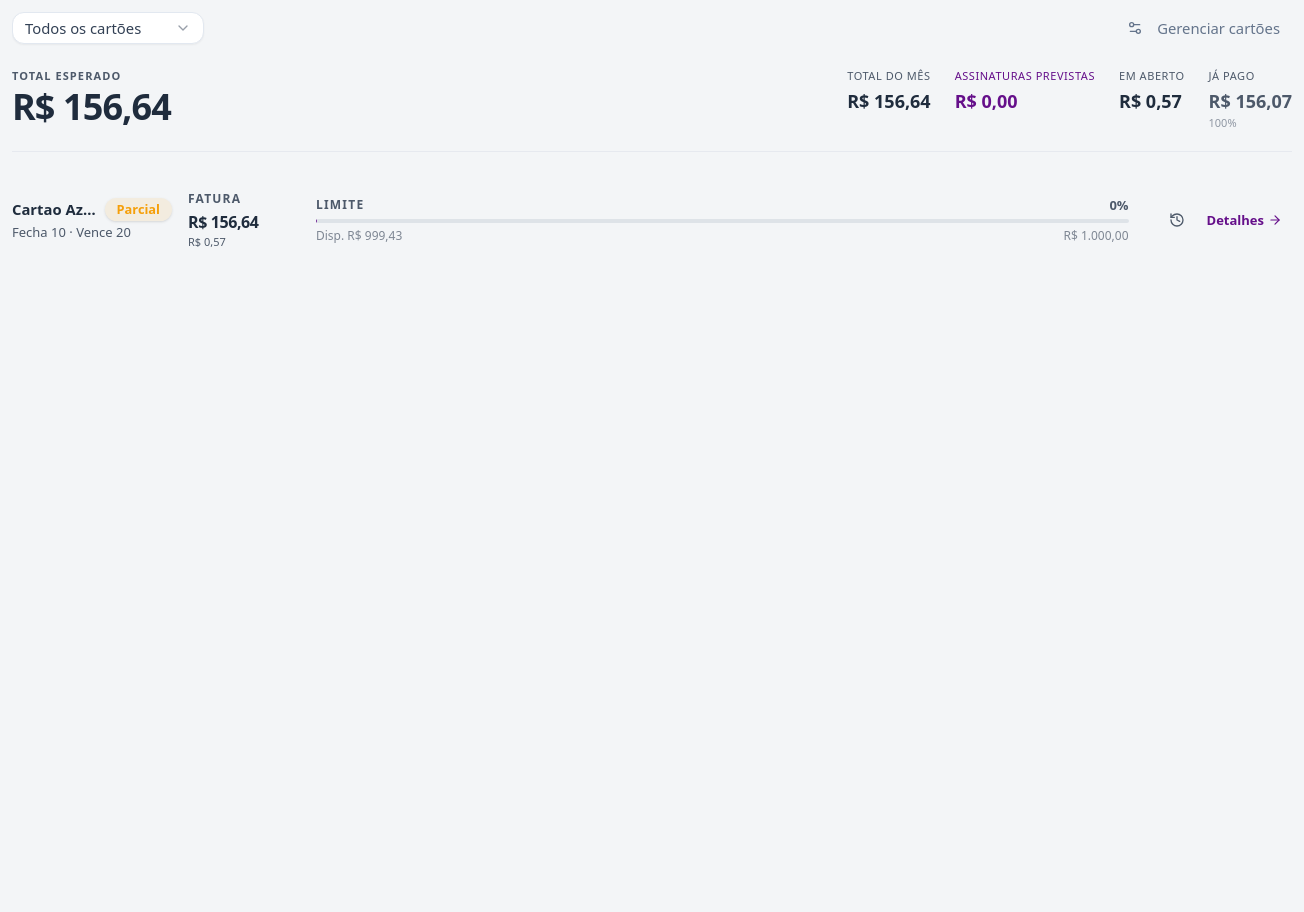
Scenario: CardsView › does not render 100% progress while a partial invoice still has cents open
The width and height of the screenshot is (1304, 912).
Click the button "Detalhes": (1244, 220) [1196,204,1292,236]
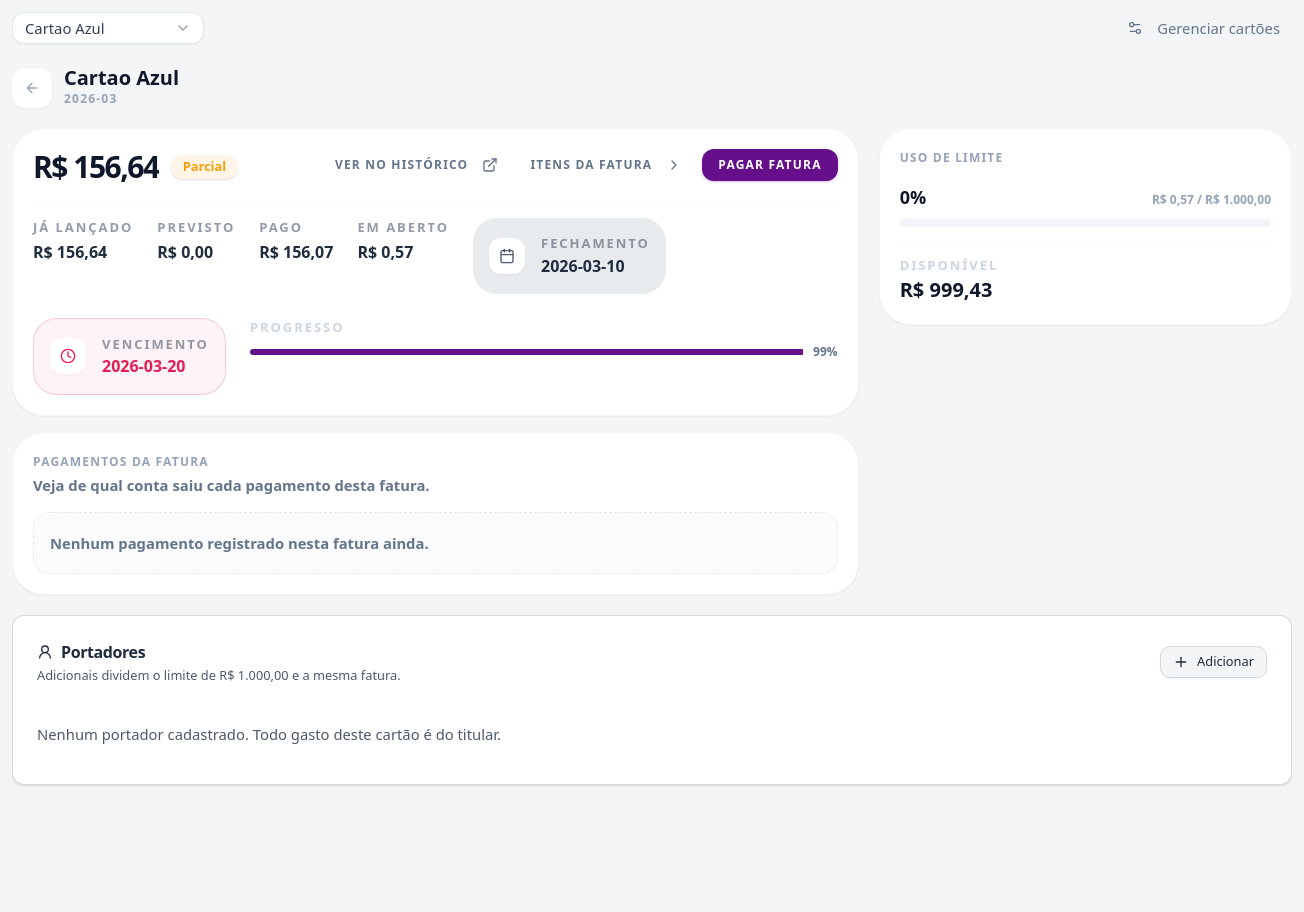
Expected: the text "Em aberto R$ 0,57" is shown, [357,218,449,262]
Now the text "99%" is shown, box [813,343,838,361]
Now the text "100%" is gone
